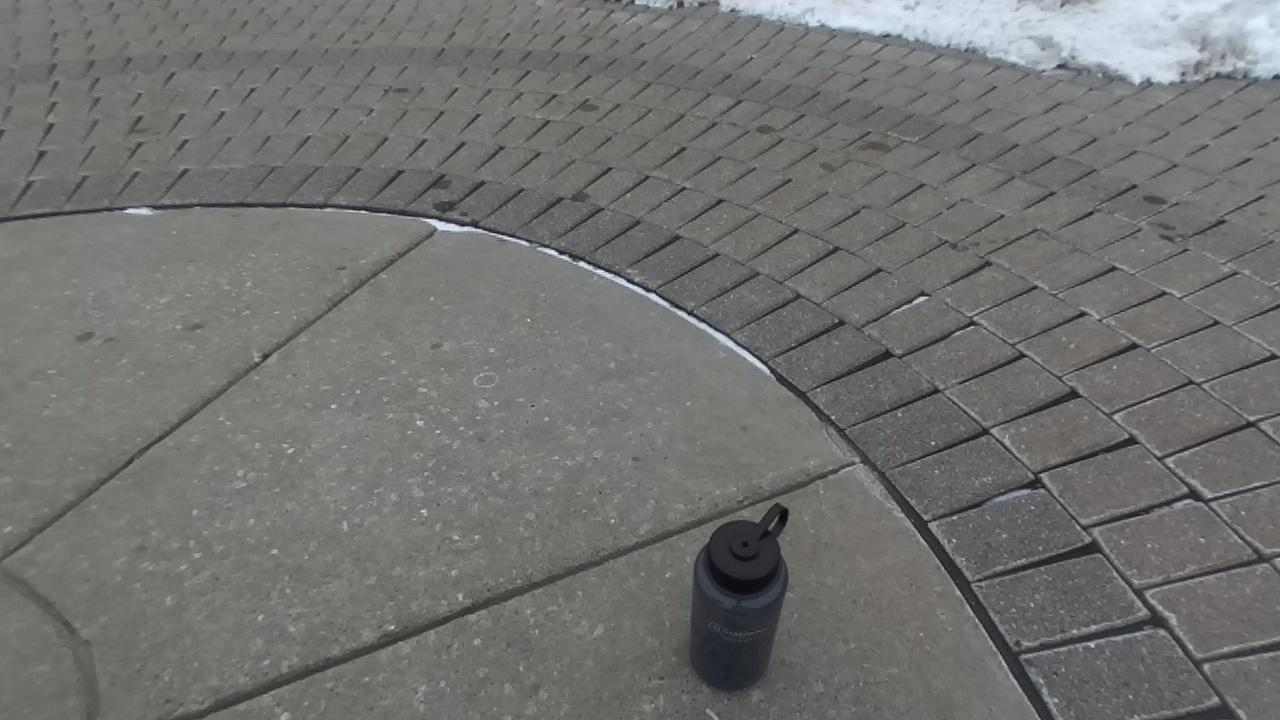bottle: (690, 503, 788, 689)
